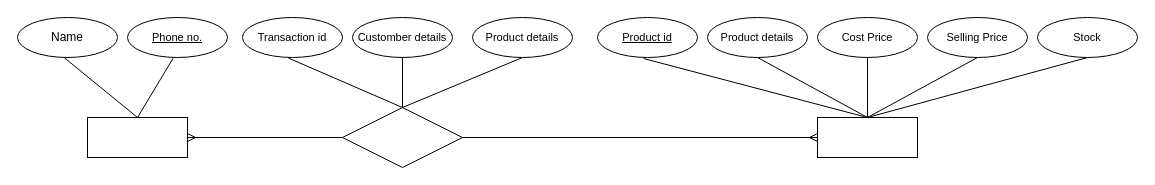
The diagram is 1155 pixels wide and 185 high, and some of its shapes have lost their labels. The shapes that lost their labels are listed below. From the top down, each one's centre as x and y in pixels, then its label:
point (137, 137): Customber
point (402, 137): Buy
point (867, 137): Products
